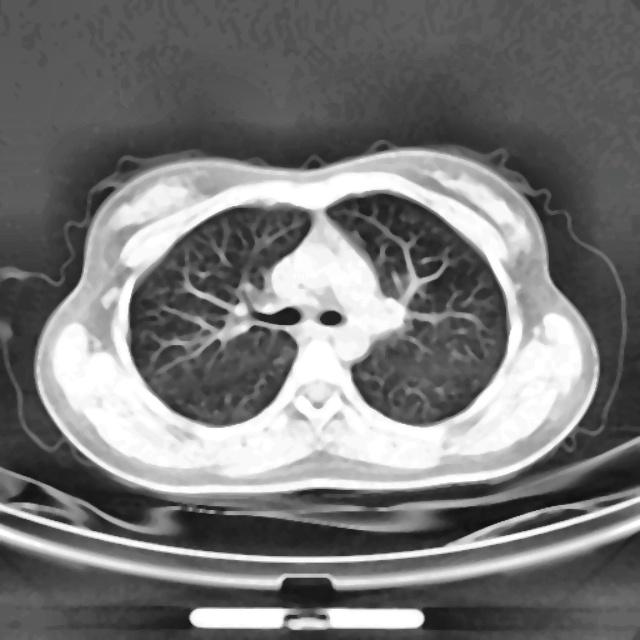covid: (32, 141, 604, 506)
